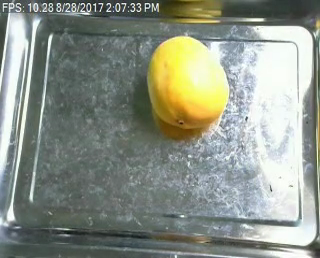Mango: (143, 32, 232, 127)
